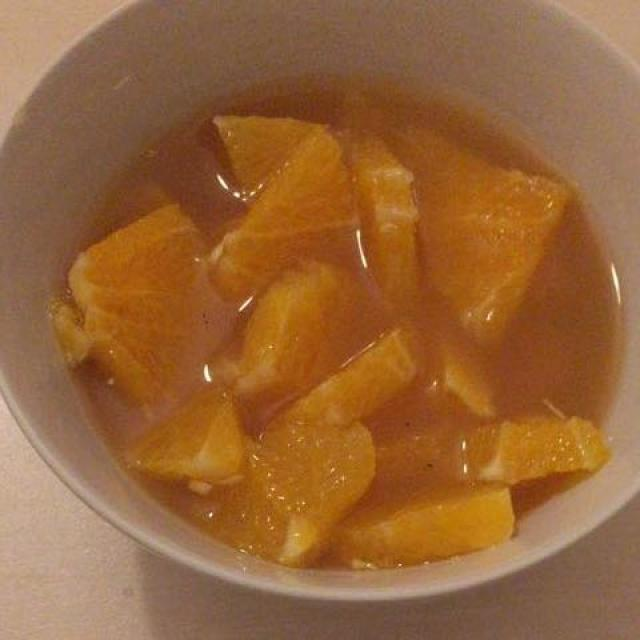orange: (54, 95, 601, 557)
